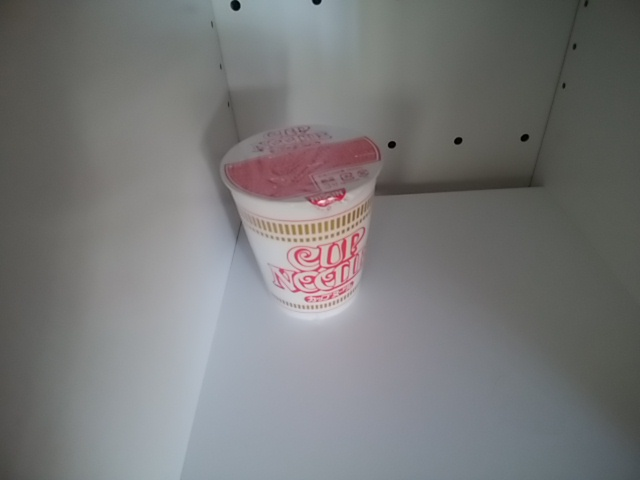cup-ramen: (218, 122, 387, 326)
